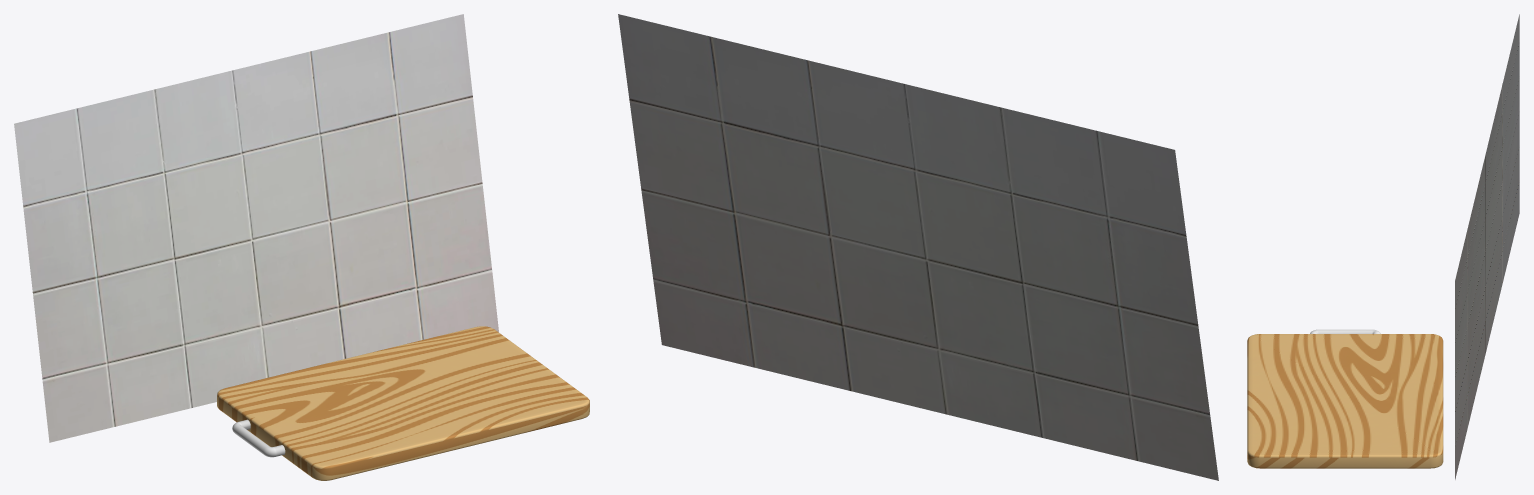
The model's file is TprjBG.fbx.
The picture shows the model from 3 angles, left to right: view 1: azimuth 30°, elevation 25°; view 2: azimuth 150°, elevation 25°; view 3: azimuth 270°, elevation 25°; orthographic projection. The views are drawn at different scales.
Visible parts, largest first — view 1: tile, CuttingBoard, Cylinder; view 2: tile; view 3: CuttingBoard, tile, Cylinder.
Part boxes in pixels (x1,y1,x2,y2): tile: (14,14,498,442); CuttingBoard: (217,326,589,480); Cylinder: (232,419,285,457); tile: (618,14,1218,480); CuttingBoard: (1247,334,1443,468); tile: (1455,14,1519,479); Cylinder: (1310,329,1380,333).
Size of what is drawn, in the model's own units: 483 by 301 by 278.
